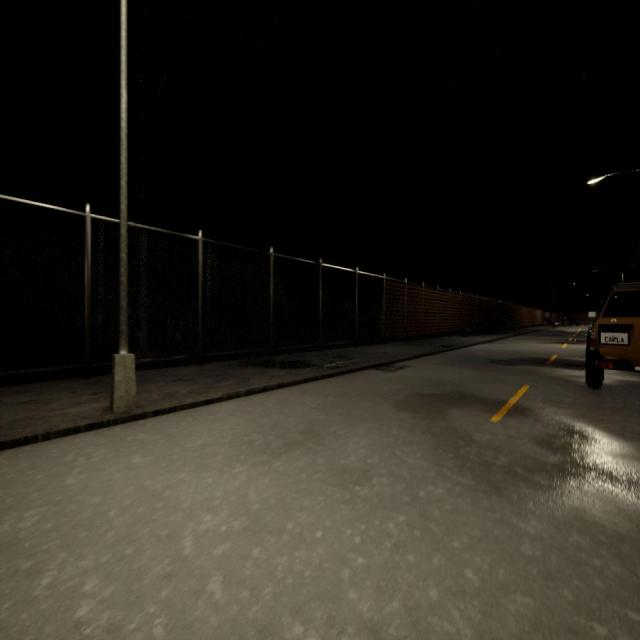Vehicle: (585, 282, 639, 389)
